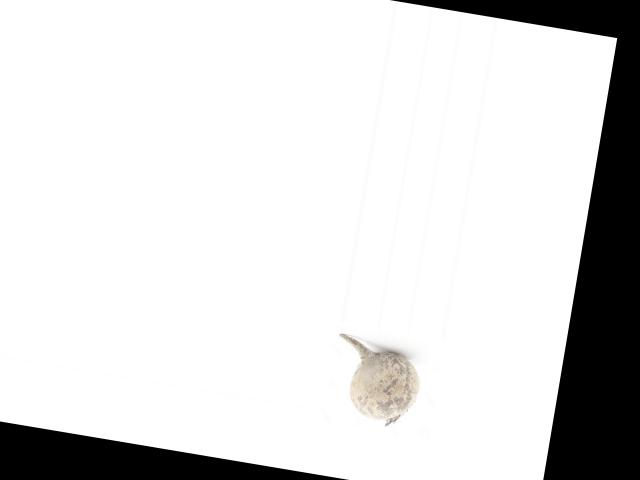beet: (326, 333, 426, 430)
